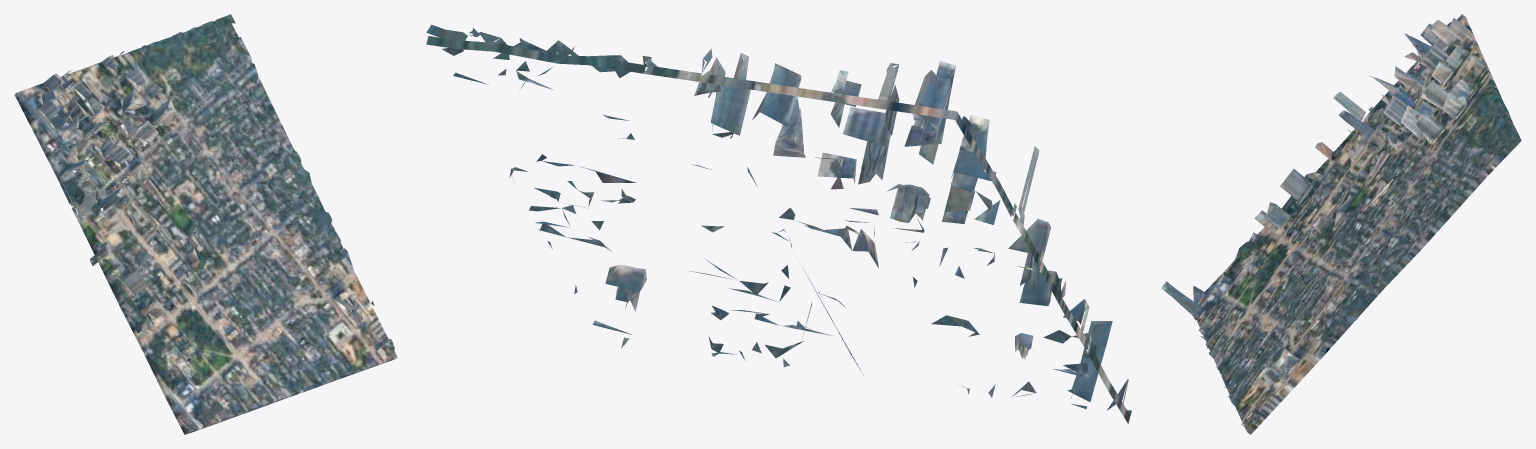
The model's file is AJVsH2walXfEfKvsRd1bZNAN4Yn9LCyT6EbBr3_2Z-k8Yljdf-udZNMIYUiTOkFQmQZXRupPjNwNtPdPJob-ABypGyFbbOLkCQyJFSHNQc8qs9RwnJ__gzQp3S7g36p1FRMYzDHwikqIK5FfMngjkZBB0IKd.glb.
3 renders of one model, left to right at view 1: azimuth 30°, elevation 25°; view 2: azimuth 150°, elevation 25°; view 3: azimuth 270°, elevation 25°, orthographic. The views are drawn at different scales.
Size of the model in its own units: 1025 by 959 by 1078.
Materials: 1 (1 with a texture image).
